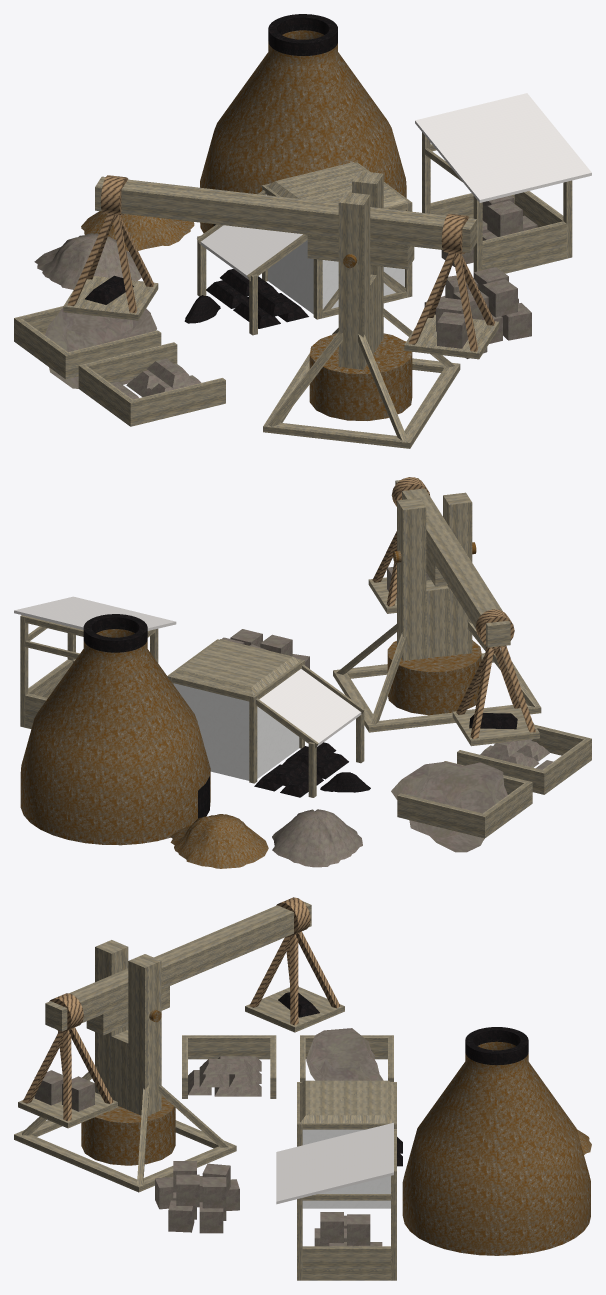
Rendered from mining-camp-textured.fbx.
3 views of the same model, one above another, from view 1: azimuth 30°, elevation 25°; view 2: azimuth 150°, elevation 25°; view 3: azimuth 270°, elevation 25° (orthographic). The views are drawn at different scales.
Visible parts, largest first — view 1: smelter_chimney, arm_upper, base, shoulder, rock_pile, wood_half_wall, stucco_walls, pile_of_gravel, small_awning, roof, wood_wall_1, canvas_awning (+41 smaller); view 2: smelter_chimney, stucco_walls, rock_pile, base, arm_upper, shoulder_1, roof, small_awning, pile_of_rust, pile_of_gravel, shoulder, wood_wall__2_ (+26 smaller); view 3: smelter_chimney, arm_upper, shoulder_1, base, roof, rock_pile, wood_half_wall__2_, stucco_walls, shoulder, wood_wall__1__1, palette, baseframe__1_ (+35 smaller).
Boxes of the visible parts, box(x1,y1,x2,y2) form: smelter_chimney: box(200, 14, 406, 233); arm_upper: box(95, 176, 476, 252); base: box(309, 333, 412, 420); shoulder: box(338, 192, 370, 369); rock_pile: box(45, 308, 156, 388); wood_half_wall: box(482, 221, 566, 273); stucco_walls: box(268, 240, 404, 314); pile_of_gravel: box(34, 233, 141, 289); small_awning: box(200, 194, 302, 279); roof: box(267, 162, 407, 207); wood_wall_1: box(130, 378, 225, 426); canvas_awning: box(415, 115, 502, 202); smelter_chimney: box(20, 614, 210, 845); stucco_walls: box(173, 683, 299, 780); rock_pile: box(391, 761, 507, 852); base: box(387, 640, 481, 715); arm_upper: box(395, 478, 510, 647); shoulder_1: box(397, 498, 426, 660); roof: box(171, 639, 300, 695); small_awning: box(259, 669, 361, 746); pile_of_rust: box(170, 814, 268, 868); pile_of_gravel: box(272, 809, 362, 867); shoulder: box(443, 492, 472, 655); wood_wall__2_: box(397, 793, 484, 838); smelter_chimney: box(402, 1027, 590, 1255); arm_upper: box(45, 901, 311, 1031); shoulder_1: box(128, 954, 161, 1115); base: box(81, 1095, 175, 1165); roof: box(300, 1080, 393, 1123); rock_pile: box(306, 1028, 383, 1080); wood_half_wall__2_: box(302, 1246, 390, 1280); stucco_walls: box(302, 1129, 390, 1208); shoulder: box(95, 940, 128, 1096); wood_wall__1__1: box(182, 1035, 275, 1059); palette: box(245, 987, 344, 1032); baseframe__1_: box(14, 1131, 147, 1192).
Bounding box in the file's own units: 2311 × 1072 × 2455.
Materials: 8 (8 with a texture image).
